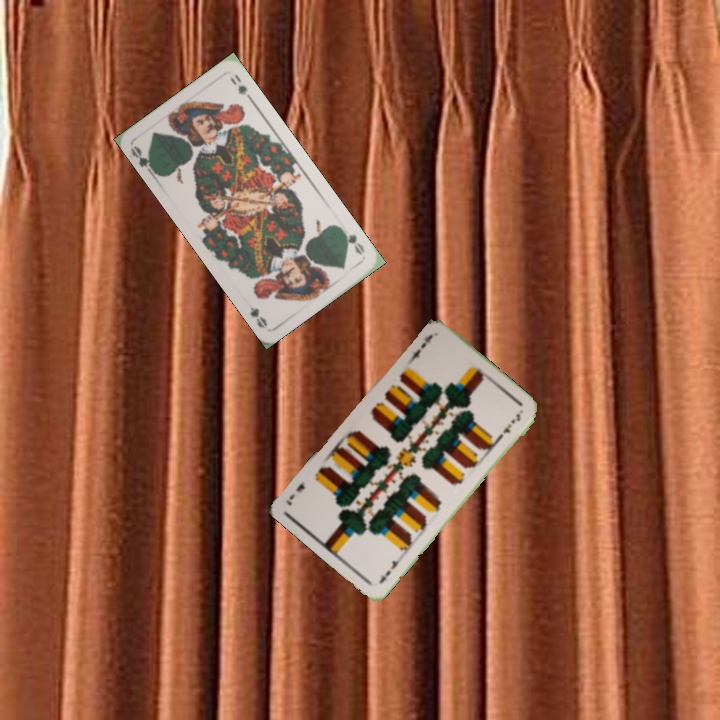E7: (375, 552, 405, 587), (405, 331, 435, 365)
GO: (127, 142, 160, 179), (337, 225, 368, 258)
